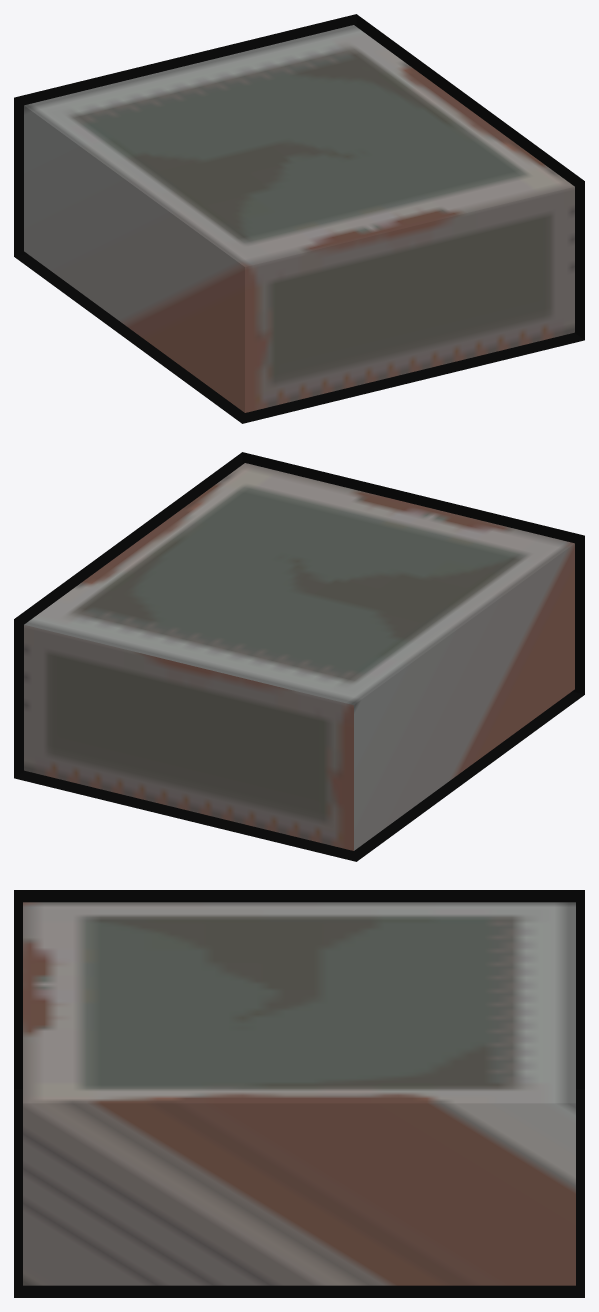
Rendered from Building_AncientLargeCrate_Things_Building_Ruins_CrateLarge.glb.
3 renders of one model, top to bottom at view 1: azimuth 30°, elevation 25°; view 2: azimuth 150°, elevation 25°; view 3: azimuth 270°, elevation 25°, orthographic. The views are drawn at different scales.
Visible parts, largest first — view 1: Body, Outline; view 2: Body, Outline; view 3: Body, Outline.
Boxes of the visible parts, x1,y1,x2,y2 form: Body: (24,25,574,412); Outline: (14,14,584,423); Body: (24,463,574,850); Outline: (14,452,584,861); Body: (23,902,575,1285); Outline: (14,890,584,1297).
Size of the model in its own units: 0.9736 by 0.4321 by 1.12.
Materials: 2 (1 with a texture image).
